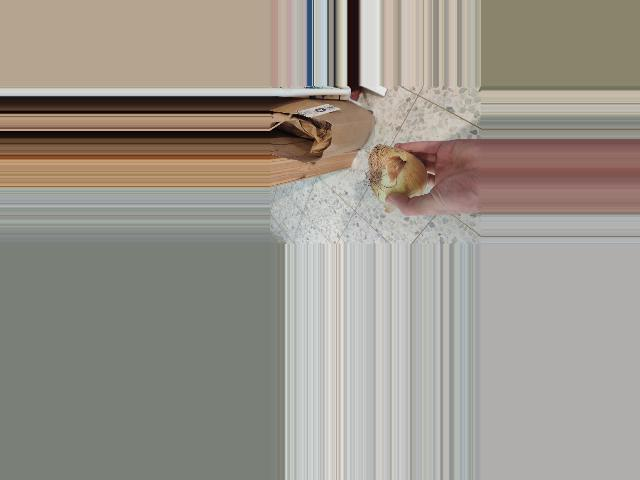onion: (366, 144, 430, 209)
